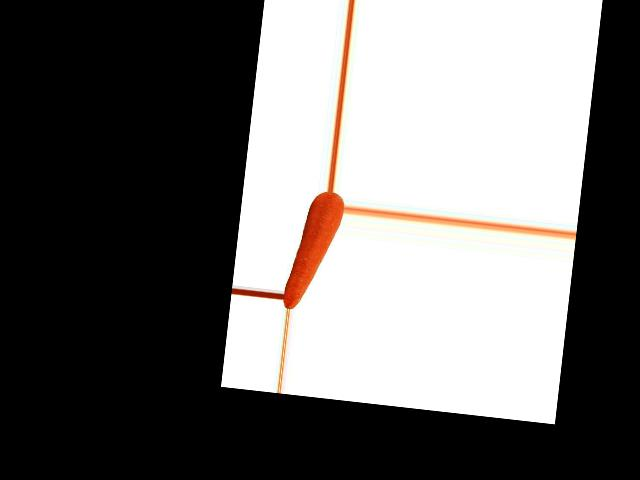carrot: (282, 187, 345, 312)
